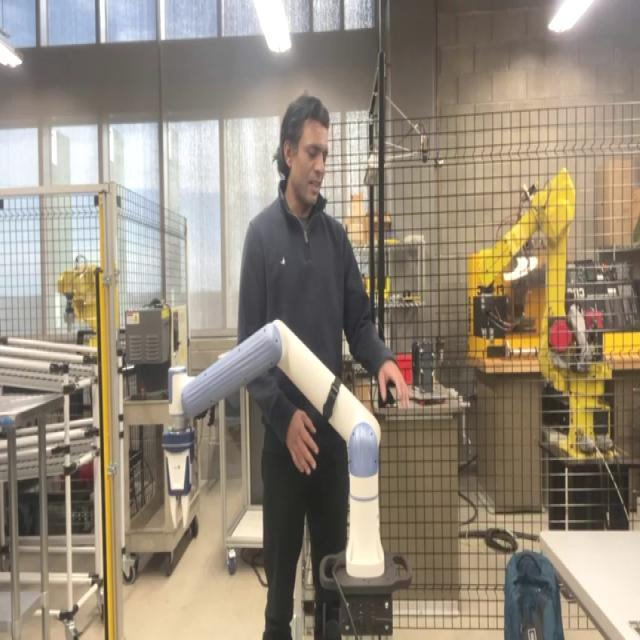robot: (150, 318, 396, 640)
